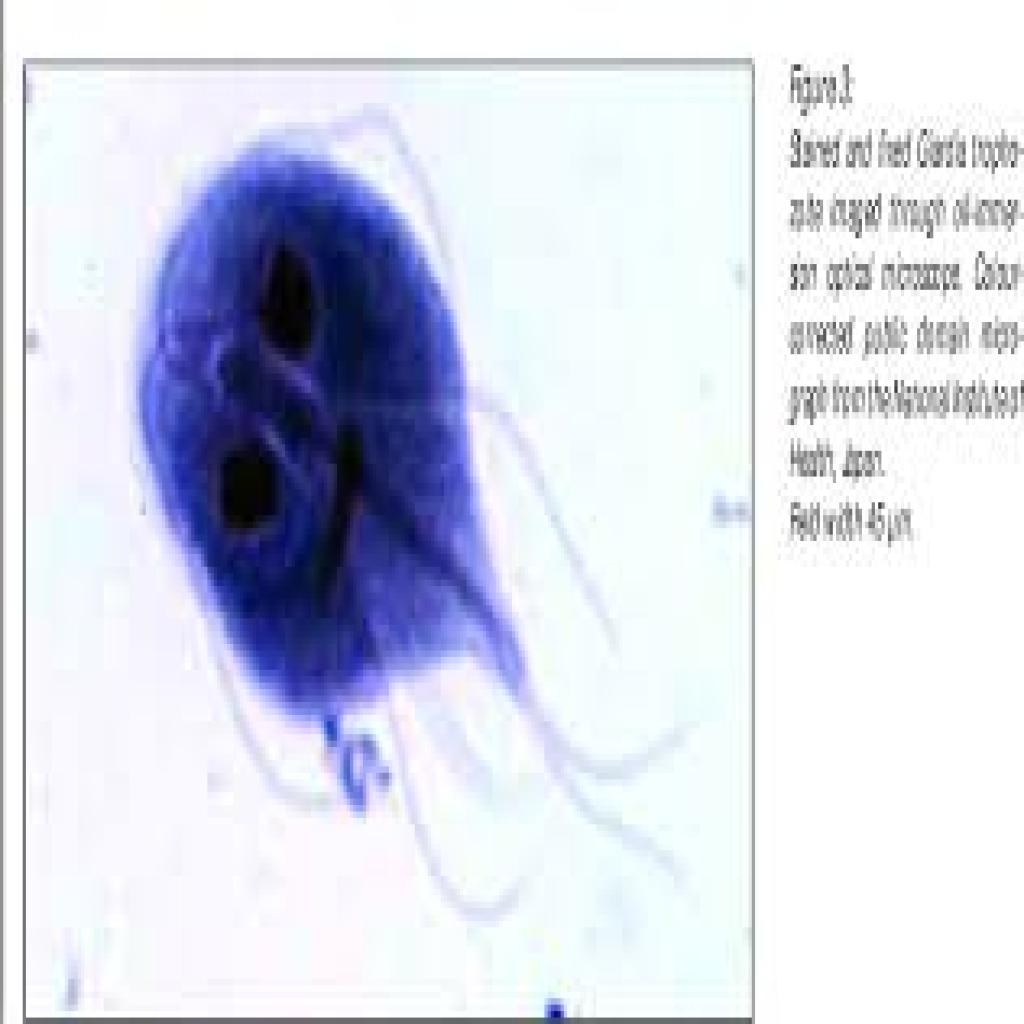Giardia: (123, 110, 622, 856)
